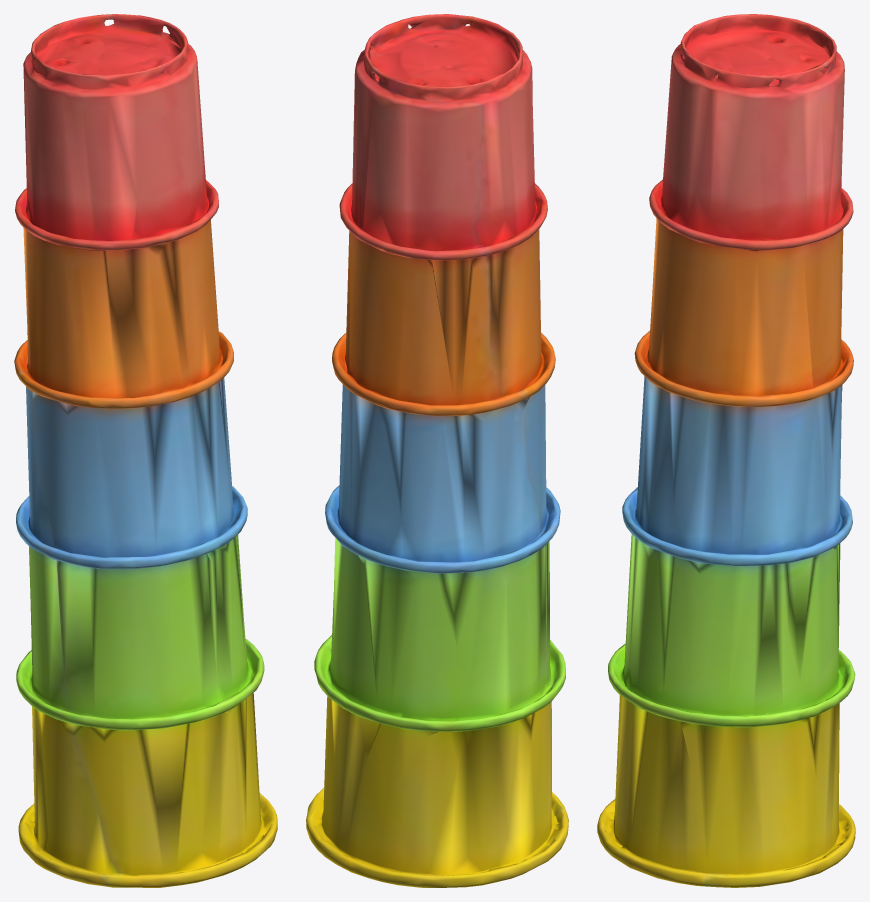
The model's file is Baby_Elements_Stacking_Cups-high.glb.
3 renders of one model, left to right at view 1: azimuth 30°, elevation 25°; view 2: azimuth 150°, elevation 25°; view 3: azimuth 270°, elevation 25°, orthographic.
Visible parts, largest first — view 1: Baby_Elements_Stacking_Cups; view 2: Baby_Elements_Stacking_Cups; view 3: Baby_Elements_Stacking_Cups.
Boxes of the visible parts, x1,y1,x2,y2 form: Baby_Elements_Stacking_Cups: (14,14,277,887); Baby_Elements_Stacking_Cups: (306,14,568,887); Baby_Elements_Stacking_Cups: (597,14,855,887).
Size of the model in its own units: 0.1028 by 0.3463 by 0.1026.
Materials: 1 (1 with a texture image).
